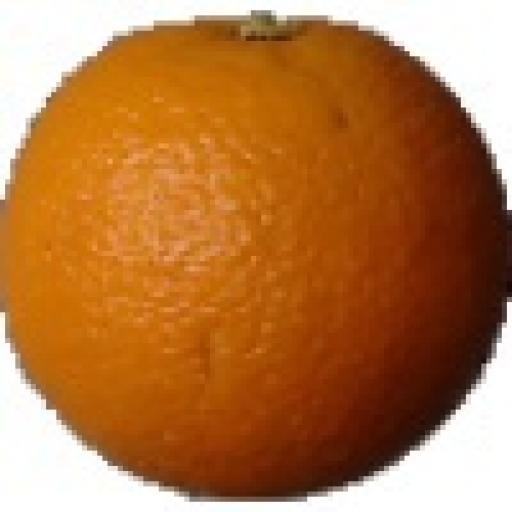orange: (6, 21, 506, 496)
